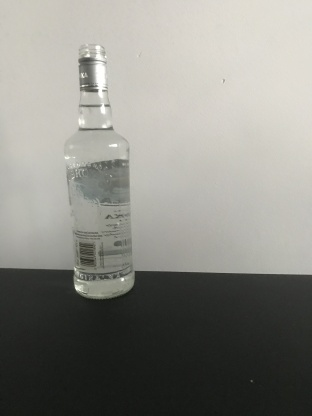nakretka: (76, 41, 109, 92)
